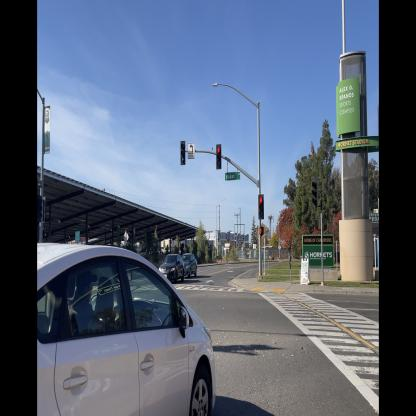left-green: (180, 140, 186, 167)
red: (216, 142, 222, 170), (258, 194, 264, 220)
